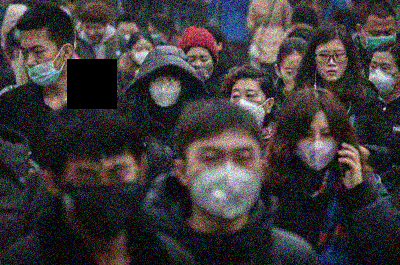mask_weared_incorrect: (21, 40, 66, 87)
with_mask: (62, 159, 145, 240), (186, 142, 264, 223), (294, 123, 339, 172), (229, 85, 268, 128), (368, 58, 400, 96), (150, 75, 182, 109), (361, 23, 397, 53), (186, 52, 214, 82), (134, 44, 152, 67)
without_mask: (317, 47, 350, 81), (82, 21, 108, 43)
